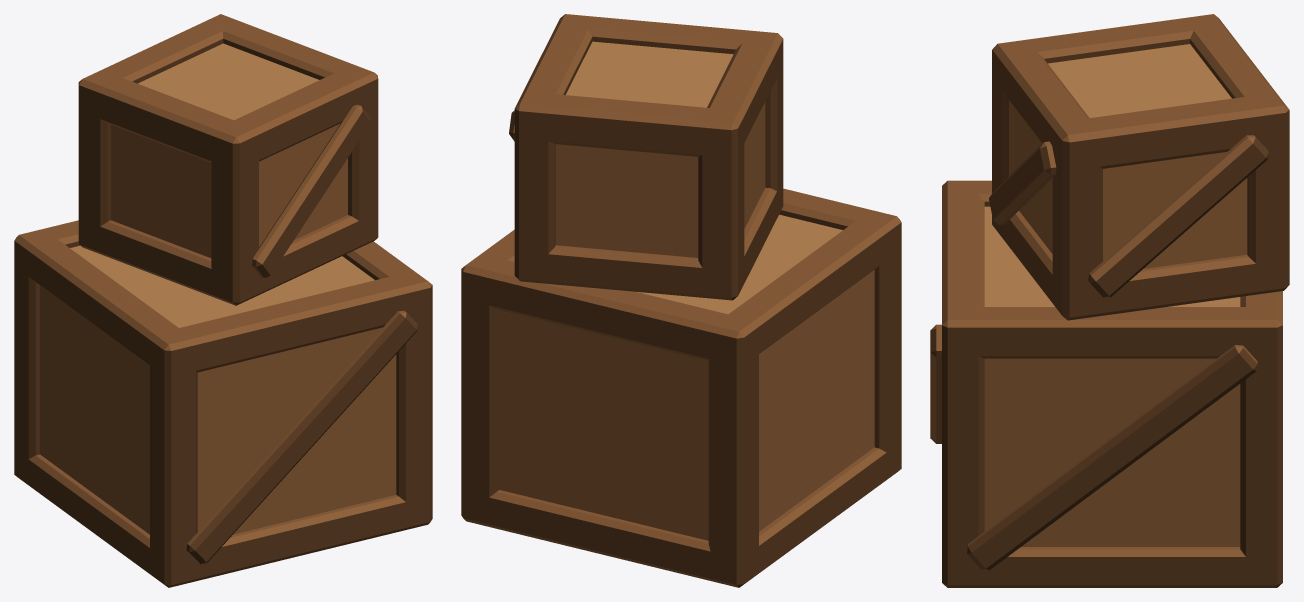
Rendered from caixote.fbx.
The picture shows the model from 3 angles, left to right: view 1: azimuth 30°, elevation 25°; view 2: azimuth 150°, elevation 25°; view 3: azimuth 270°, elevation 25°; orthographic projection. The views are drawn at different scales.
Parts seen in each view (by area): view 1: caixote; view 2: caixote; view 3: caixote.
Part boxes in pixels (x1,y1,x2,y2): caixote: (14,14,432,587); caixote: (461,14,901,587); caixote: (930,14,1289,587).
Bounding box in the file's own units: 62 × 88 × 63.15.
